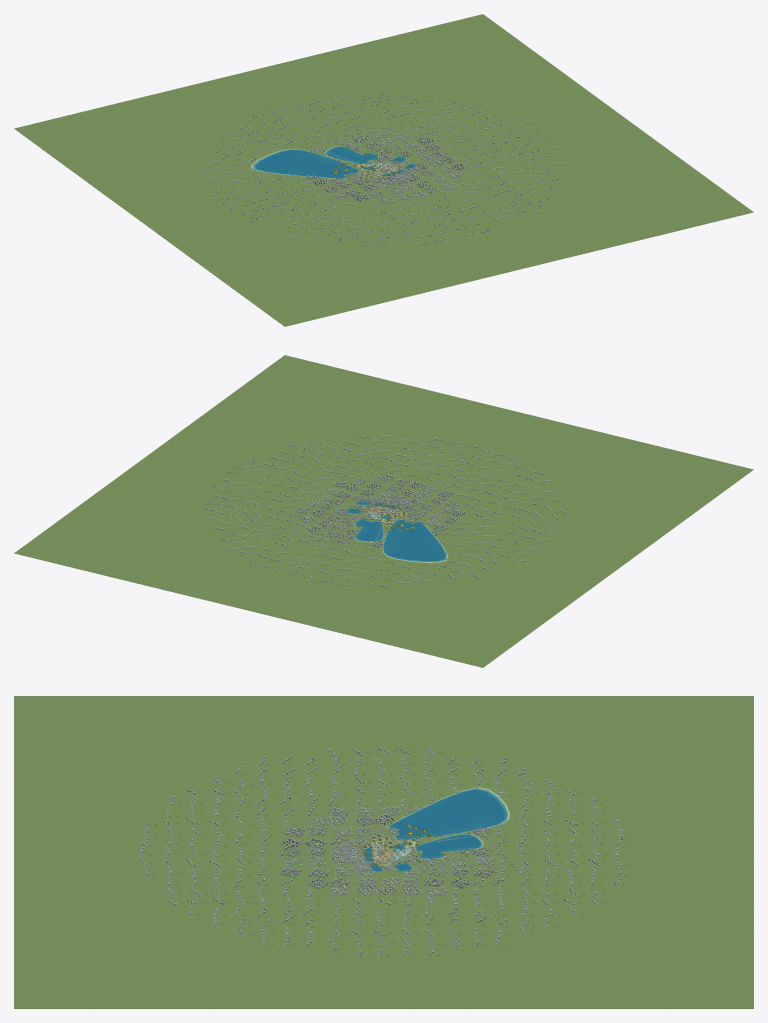
File: city.glb
The picture shows the model from 3 angles, top to bottom: view 1: azimuth 30°, elevation 25°; view 2: azimuth 150°, elevation 25°; view 3: azimuth 270°, elevation 25°; orthographic projection. The views are drawn at different scales.
Parts seen in each view (by area): view 1: regional_terrain_ground, regional_context_building, regional_context_roads_road, regional_context_roof, regional_terrain_waterDeep, regional_context_greens_grass, regional_buildings_building, regional_buildings_roof; view 2: regional_terrain_ground, regional_context_building, regional_context_roof, regional_terrain_waterDeep, regional_context_roads_road, regional_context_greens_grass, regional_buildings_building, regional_buildings_roof; view 3: regional_terrain_ground, regional_context_building, regional_context_roof, regional_terrain_waterDeep, regional_context_roads_road, regional_context_greens_grass, regional_buildings_building, regional_buildings_roof, regional_landscape_foliage_v27.
Part boxes in pixels (<box>): regional_terrain_ground: <box>14,14,753,326</box>; regional_context_building: <box>199,93,568,246</box>; regional_context_roads_road: <box>197,93,572,248</box>; regional_context_roof: <box>199,92,567,246</box>; regional_terrain_waterDeep: <box>256,146,415,178</box>; regional_context_greens_grass: <box>206,92,566,243</box>; regional_buildings_building: <box>316,125,420,184</box>; regional_buildings_roof: <box>317,124,420,184</box>; regional_terrain_ground: <box>14,355,753,667</box>; regional_context_building: <box>203,435,568,587</box>; regional_context_roof: <box>203,434,568,586</box>; regional_terrain_waterDeep: <box>347,501,445,560</box>; regional_context_roads_road: <box>202,435,571,588</box>; regional_context_greens_grass: <box>200,438,559,588</box>; regional_buildings_building: <box>301,497,422,544</box>; regional_buildings_roof: <box>301,497,420,544</box>; regional_terrain_ground: <box>14,696,753,1008</box>; regional_context_building: <box>140,747,623,957</box>; regional_context_roof: <box>140,746,622,955</box>; regional_terrain_waterDeep: <box>364,789,505,871</box>; regional_context_roads_road: <box>136,747,622,959</box>; regional_context_greens_grass: <box>147,750,631,957</box>; regional_buildings_building: <box>337,824,521,873</box>; regional_buildings_roof: <box>337,824,522,873</box>; regional_landscape_foliage_v27: <box>336,787,514,871</box>.
Size of the model in its own units: 39000 by 163 by 39000.
Materials: 20 (5 with a texture image).
